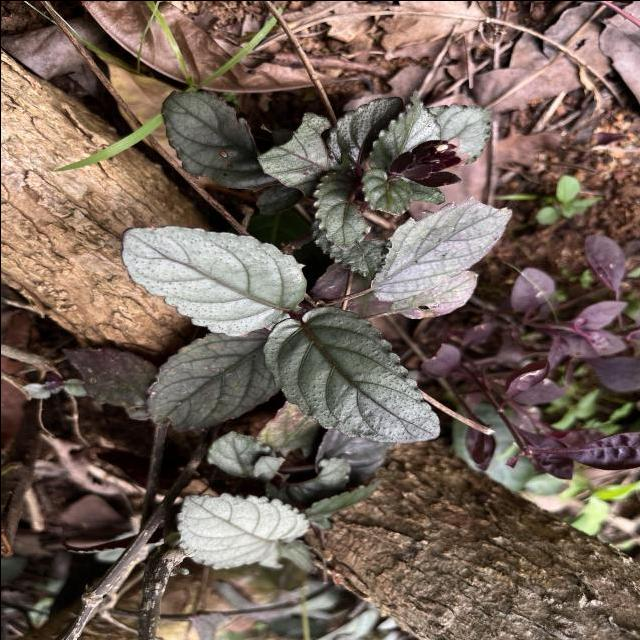Hemigraphis colorata: (258, 303, 442, 444), (116, 221, 311, 339), (364, 194, 516, 304), (138, 328, 284, 438), (174, 488, 314, 572)
